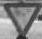Give way: (0, 1, 40, 36)
